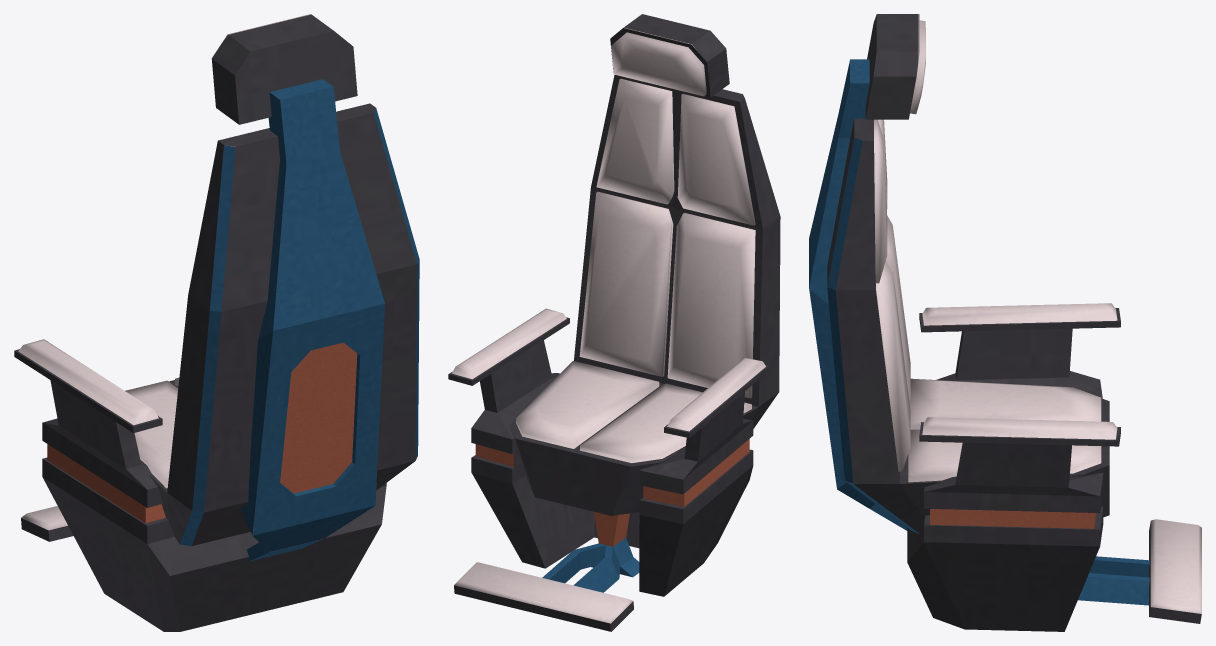
3 renders of one model, left to right at view 1: azimuth 30°, elevation 25°; view 2: azimuth 150°, elevation 25°; view 3: azimuth 270°, elevation 25°, orthographic. The views are drawn at different scales.
Parts seen in each view (by area): view 1: pilot_seat_collider_0; view 2: pilot_seat_collider_0; view 3: pilot_seat_collider_0.
Boxes of the visible parts, x1,y1,x2,y2 form: pilot_seat_collider_0: (14,14,419,631); pilot_seat_collider_0: (448,14,780,631); pilot_seat_collider_0: (809,14,1201,631).
Size of the model in its own units: 1.29 by 2.55 by 1.62.
Materials: 1 (1 with a texture image).
